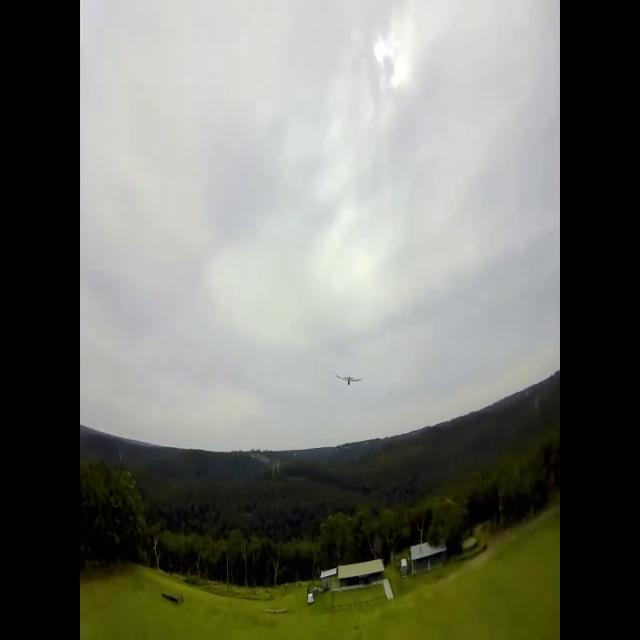iha: (337, 374, 361, 387)
